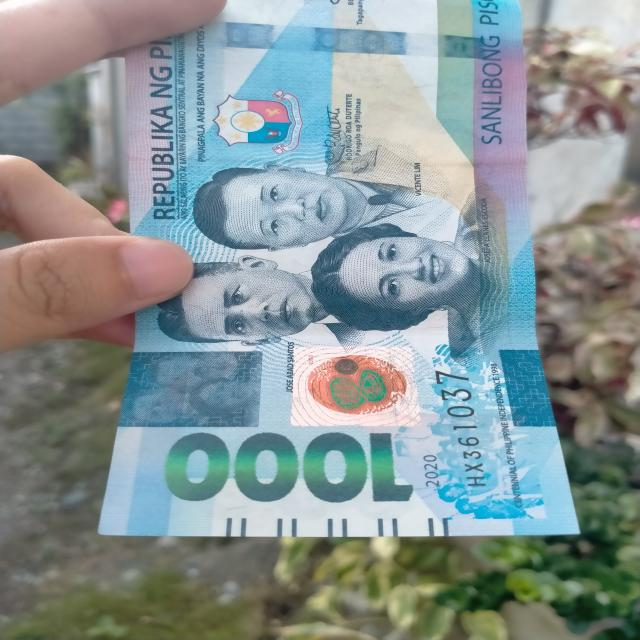concealed_value: (116, 351, 264, 430)
optically_variable_device: (290, 345, 422, 428)
serial_number: (426, 364, 500, 498)
value: (158, 425, 425, 507)
